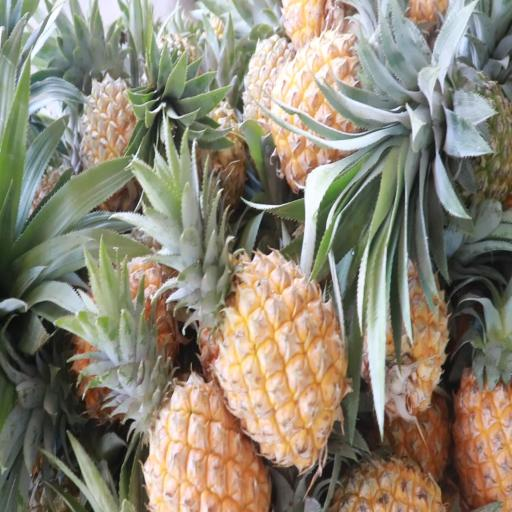Pineapple - v8 v1: (194, 237, 346, 452), (269, 28, 411, 186), (144, 349, 268, 512), (457, 316, 512, 512)
